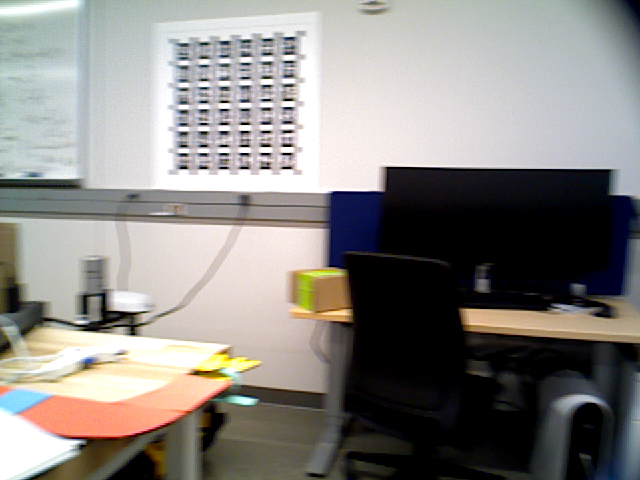painting4: (152, 13, 322, 190)
